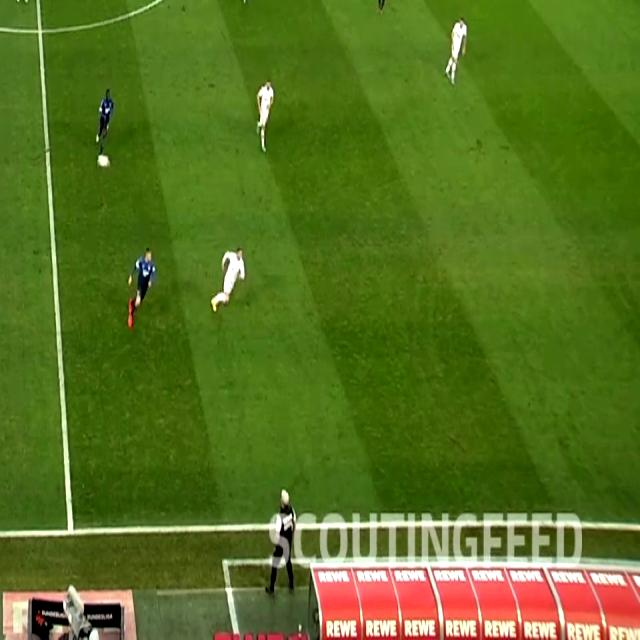ball: (93, 149, 111, 173)
soccer-player: (118, 240, 159, 329), (207, 243, 250, 317), (251, 78, 282, 160), (438, 15, 469, 90), (90, 85, 118, 147), (368, 0, 396, 14), (239, 0, 264, 11), (17, 0, 30, 7)
